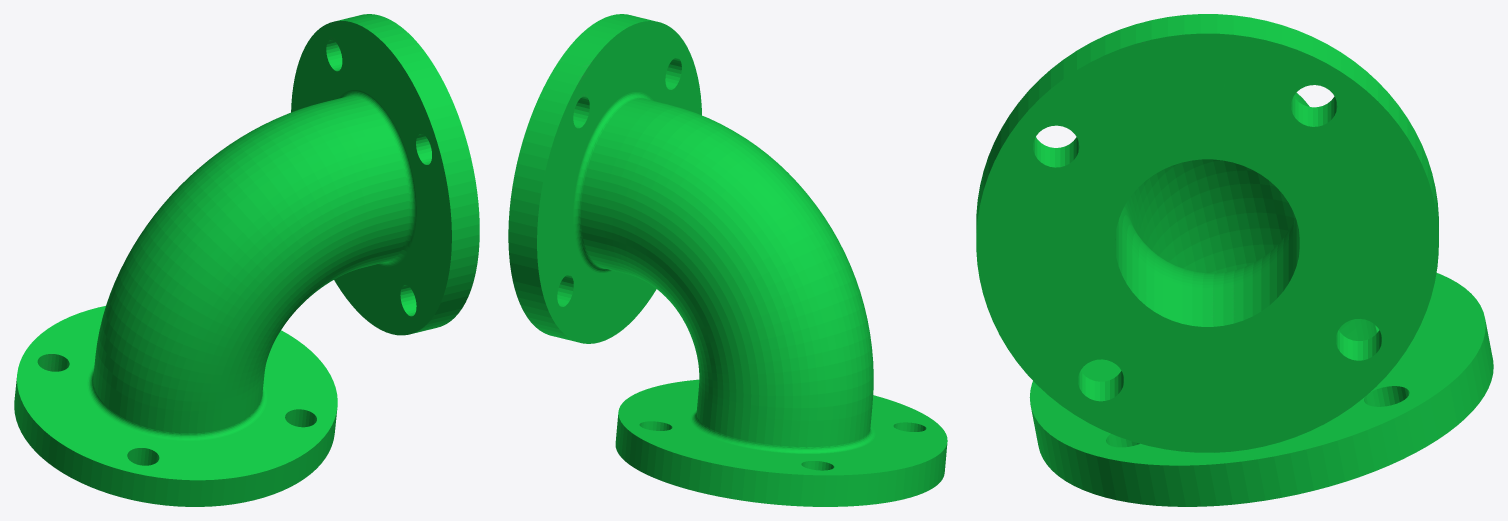
The model's file is curva3.glb.
3 views of the same model, side by side, from view 1: azimuth 30°, elevation 25°; view 2: azimuth 150°, elevation 25°; view 3: azimuth 270°, elevation 25° (orthographic). The views are drawn at different scales.
Parts seen in each view (by area): view 1: node_id3; view 2: node_id3; view 3: node_id3.
Boxes of the visible parts, x1,y1,x2,y2 form: node_id3: (14, 14, 479, 506); node_id3: (508, 14, 947, 506); node_id3: (976, 14, 1493, 506).
Bounding box in the file's own units: 0.512 × 0.543 × 0.4641.
1 material, 1 textured.
